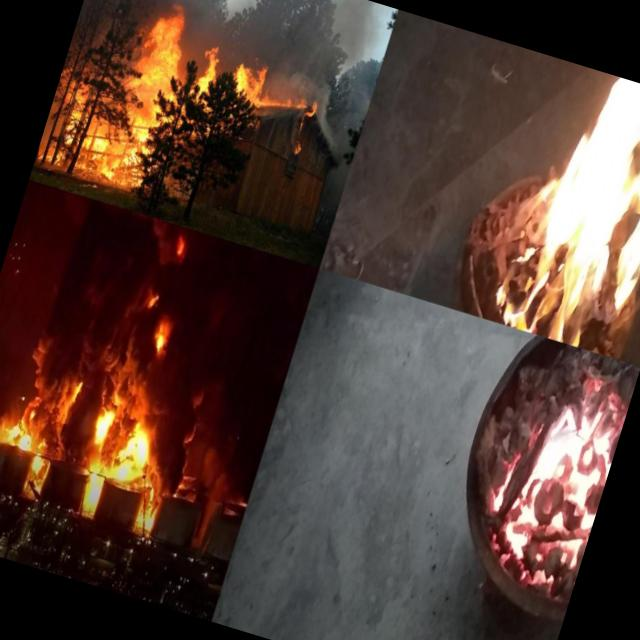fire: (33, 0, 284, 222), (464, 334, 640, 598), (491, 62, 640, 366), (112, 418, 162, 486), (261, 86, 322, 130), (133, 480, 168, 532), (88, 401, 120, 452), (26, 434, 56, 484), (2, 416, 38, 456), (80, 465, 107, 509), (147, 319, 174, 358), (286, 125, 312, 164), (171, 228, 192, 262), (142, 286, 162, 316)
smoke: (11, 304, 122, 436), (146, 374, 220, 492), (302, 0, 366, 113), (298, 100, 365, 196)
